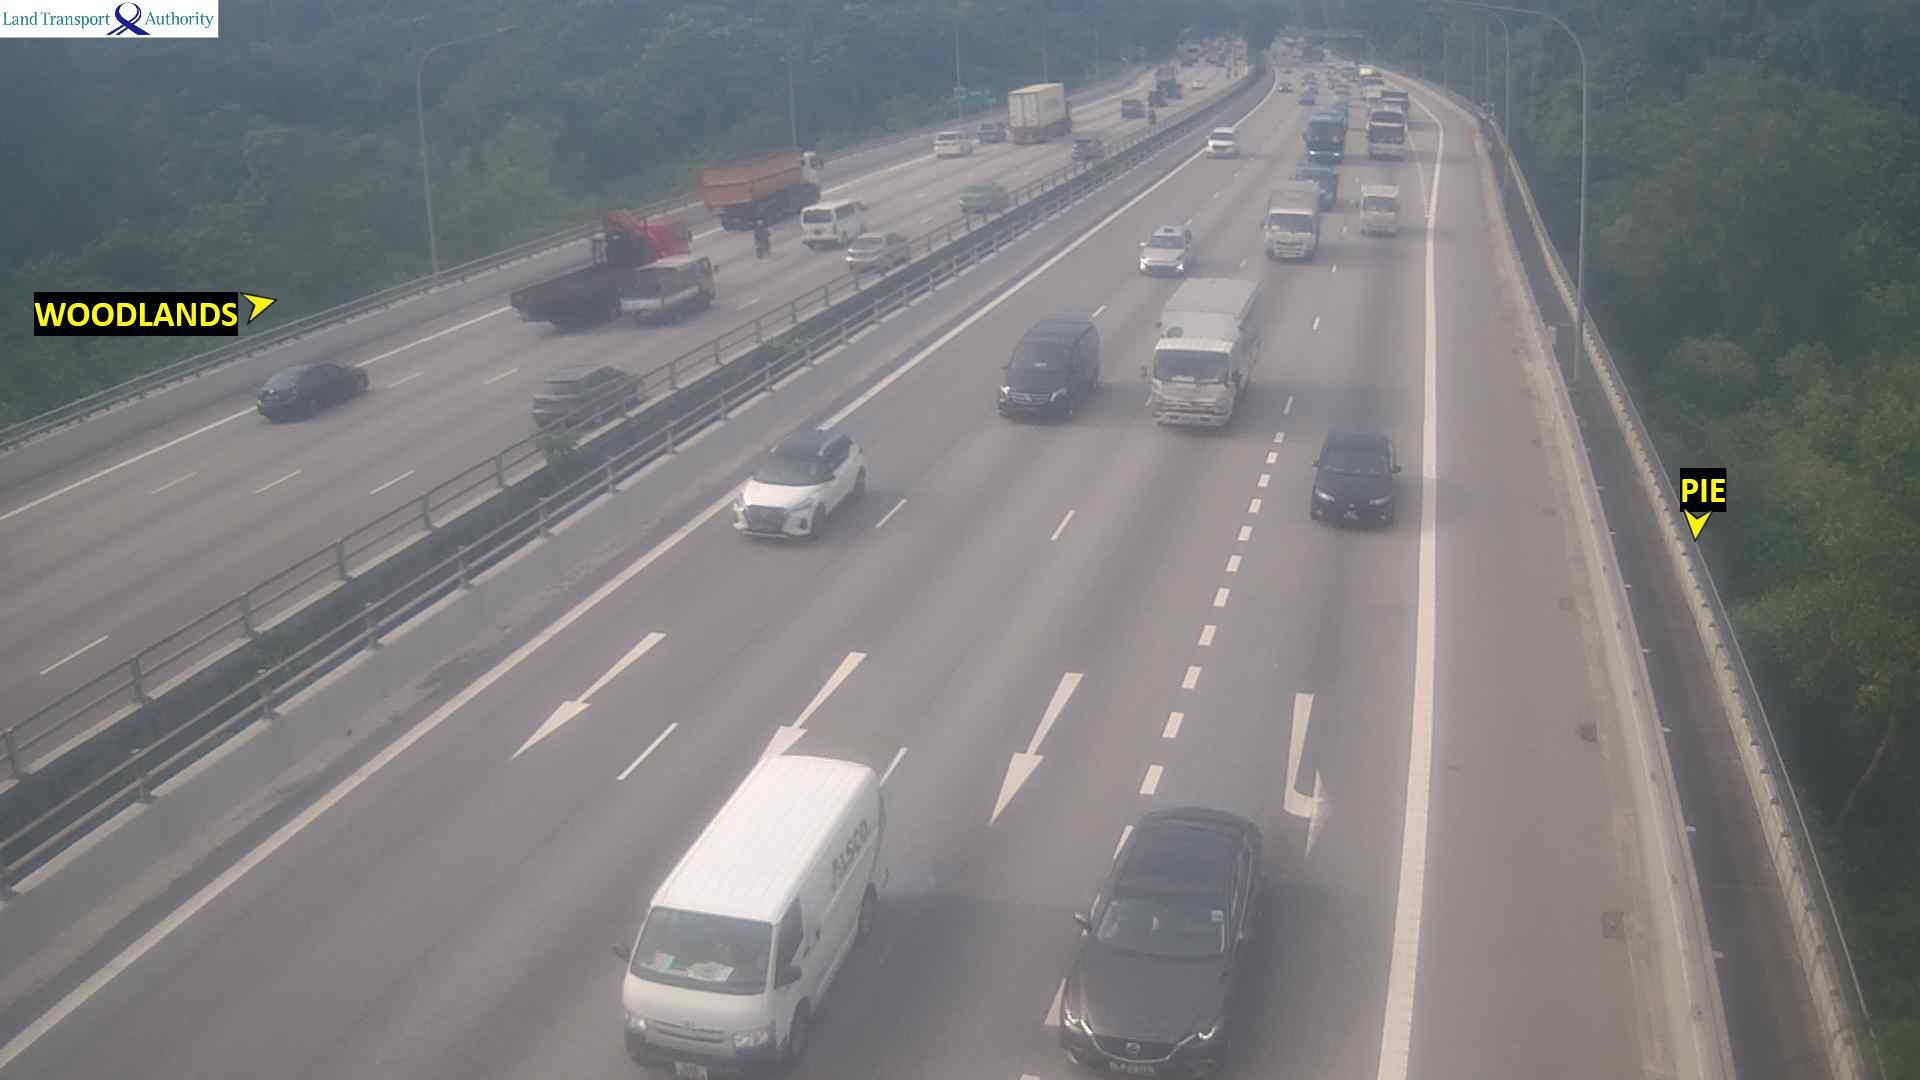incoming: (1052, 873, 1269, 1072), (611, 897, 818, 1072), (1139, 335, 1245, 436), (728, 448, 840, 543), (1303, 440, 1407, 535), (996, 340, 1081, 427), (1258, 208, 1321, 265), (1138, 232, 1195, 276), (1364, 111, 1408, 165), (1358, 191, 1403, 240), (1304, 116, 1349, 165), (1204, 127, 1241, 160)
